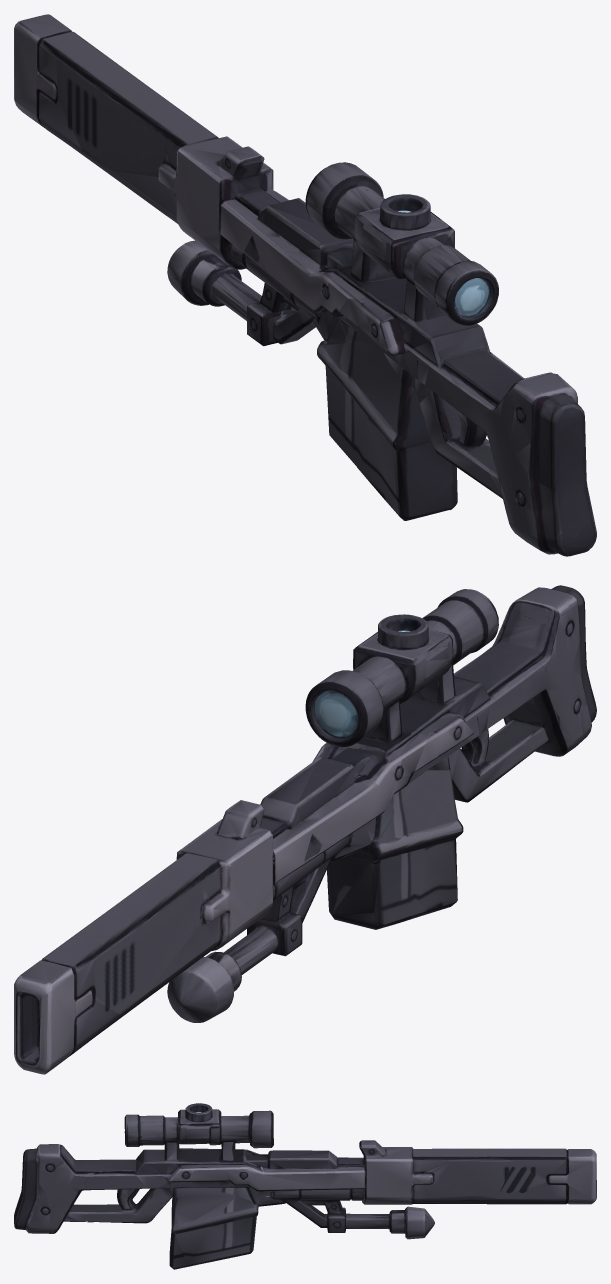
The model's file is shion-weapon.fbx.
3 views of the same model, one above another, from view 1: azimuth 30°, elevation 25°; view 2: azimuth 150°, elevation 25°; view 3: azimuth 270°, elevation 25° (orthographic). The views are drawn at different scales.
Visible parts, largest first — view 1: shion_weapon; view 2: shion_weapon; view 3: shion_weapon.
Part boxes in pixels (bbox=[...]): shion_weapon: bbox=[14, 14, 596, 556]; shion_weapon: bbox=[14, 585, 596, 1074]; shion_weapon: bbox=[14, 1103, 596, 1269].
Bounding box in the file's own units: 8.56 × 28.01 × 95.
1 material, 1 textured.
